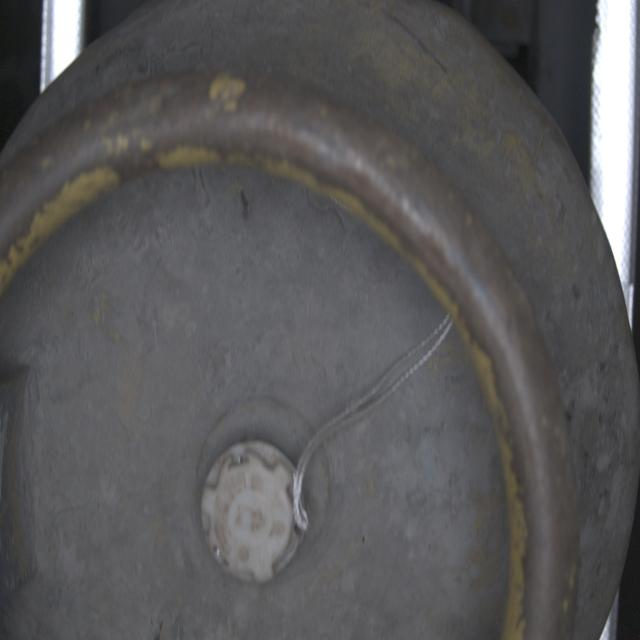Cap: (200, 438, 310, 587)
